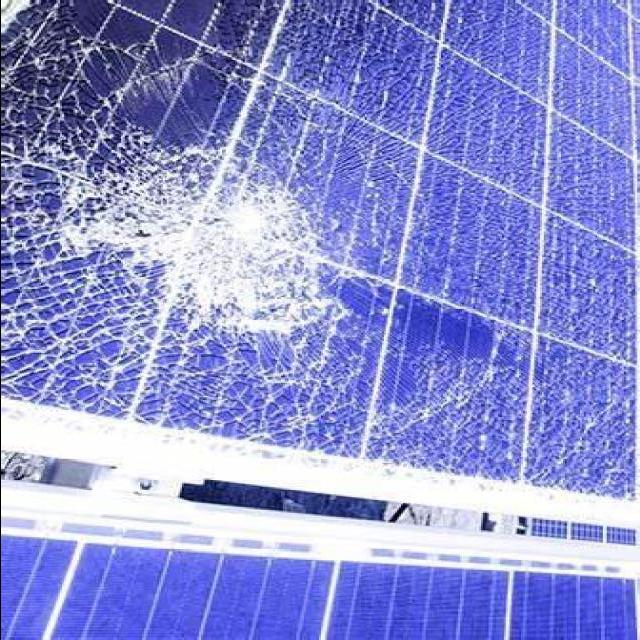cracked: (0, 0, 638, 527)
